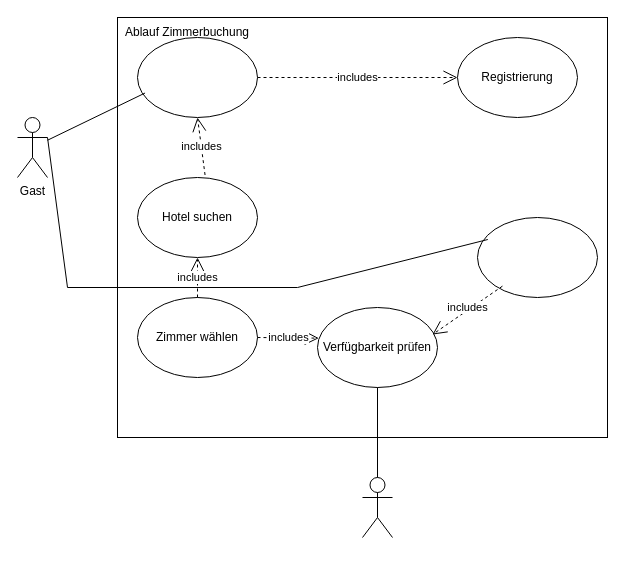
Some shapes in this 625 by 576 pixel diagram are drawn without their labels. The shapes that lost their labels are listed below. From the top down, each one's box as (x1, y1, x2, y2) in pixels, then its label:
(136, 36, 258, 118): LogIn
(476, 216, 598, 298): Buchung & Zahlung
(362, 476, 392, 538): Zimmerdatenbank
